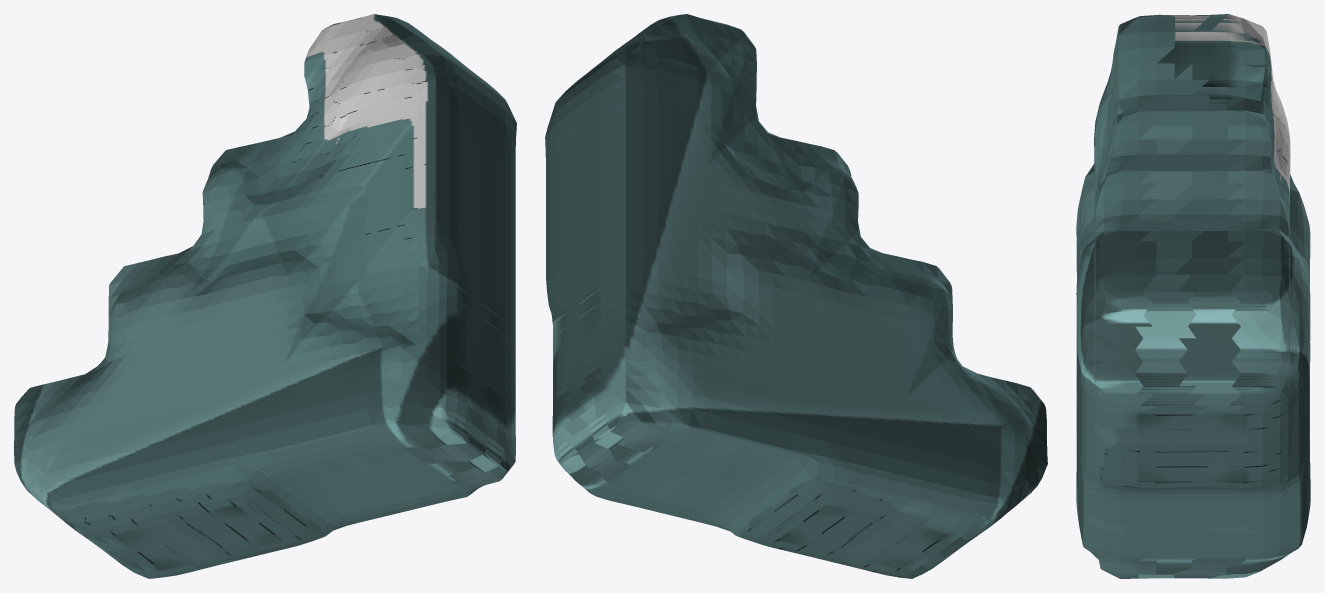
The picture shows the model from 3 angles, left to right: view 1: azimuth 30°, elevation 25°; view 2: azimuth 150°, elevation 25°; view 3: azimuth 270°, elevation 25°; orthographic projection. The views are drawn at different scales.
Parts seen in each view (by area): view 1: model; view 2: model; view 3: model.
Part boxes in pixels (x1,y1,x2,y2): model: [14, 14, 516, 578]; model: [545, 14, 1047, 578]; model: [1076, 14, 1310, 578].
Bounding box in the file's own units: 1 × 1 × 0.4093.
1 material, 1 textured.
